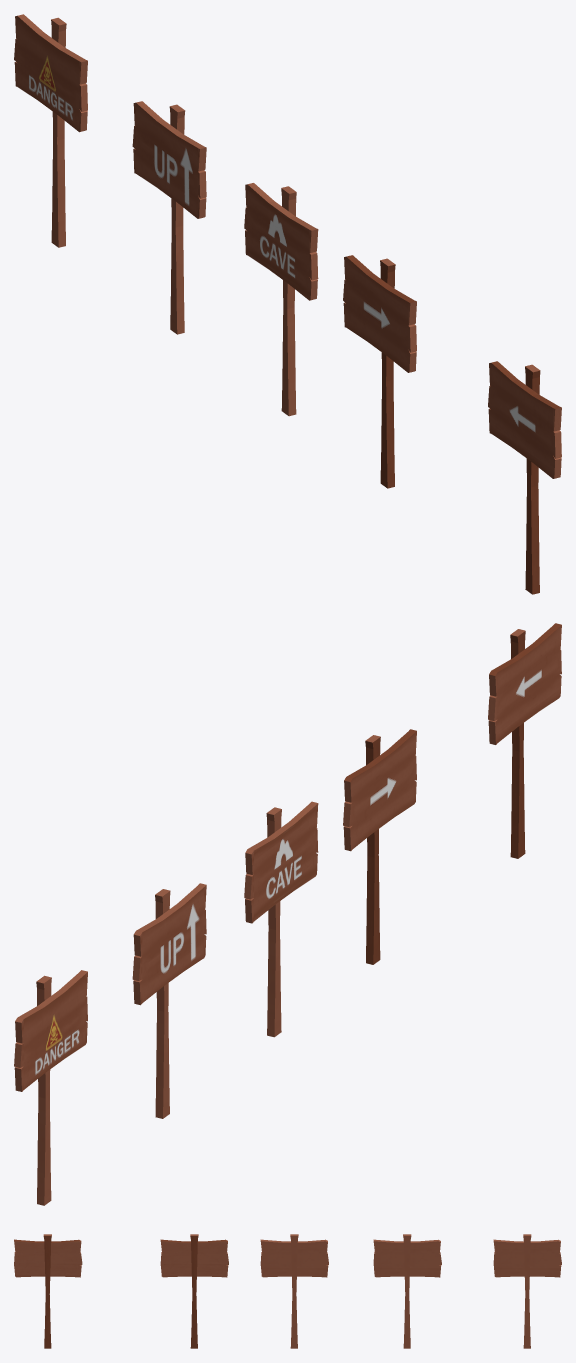
Rendered from Signs.fbx.
The picture shows the model from 3 angles, top to bottom: view 1: azimuth 30°, elevation 25°; view 2: azimuth 150°, elevation 25°; view 3: azimuth 270°, elevation 25°; orthographic projection. The views are drawn at different scales.
Visible parts, largest first — view 1: Up1, Right, Up2, Danger, Up; view 2: Up1, Up, Danger, Up2, Right; view 3: Right, Up1, Up2, Danger, Up.
Part boxes in pixels (x1,y1,x2,y2): Up1: [132, 101, 206, 334]; Right: [488, 361, 561, 594]; Up2: [14, 14, 87, 247]; Danger: [343, 255, 416, 488]; Up: [244, 183, 318, 416]; Up1: [132, 883, 206, 1118]; Up: [244, 801, 318, 1037]; Danger: [343, 729, 416, 964]; Up2: [14, 970, 87, 1205]; Right: [488, 623, 561, 858]; Right: [14, 1234, 82, 1348]; Up1: [373, 1234, 441, 1348]; Up2: [493, 1234, 561, 1348]; Danger: [160, 1234, 228, 1348]; Up: [260, 1234, 328, 1348].
Size of the model in its own units: 20.39 by 300 by 1321.
1 material, 1 textured.
